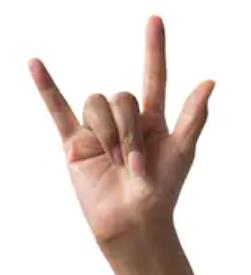back: (25, 14, 223, 228)
